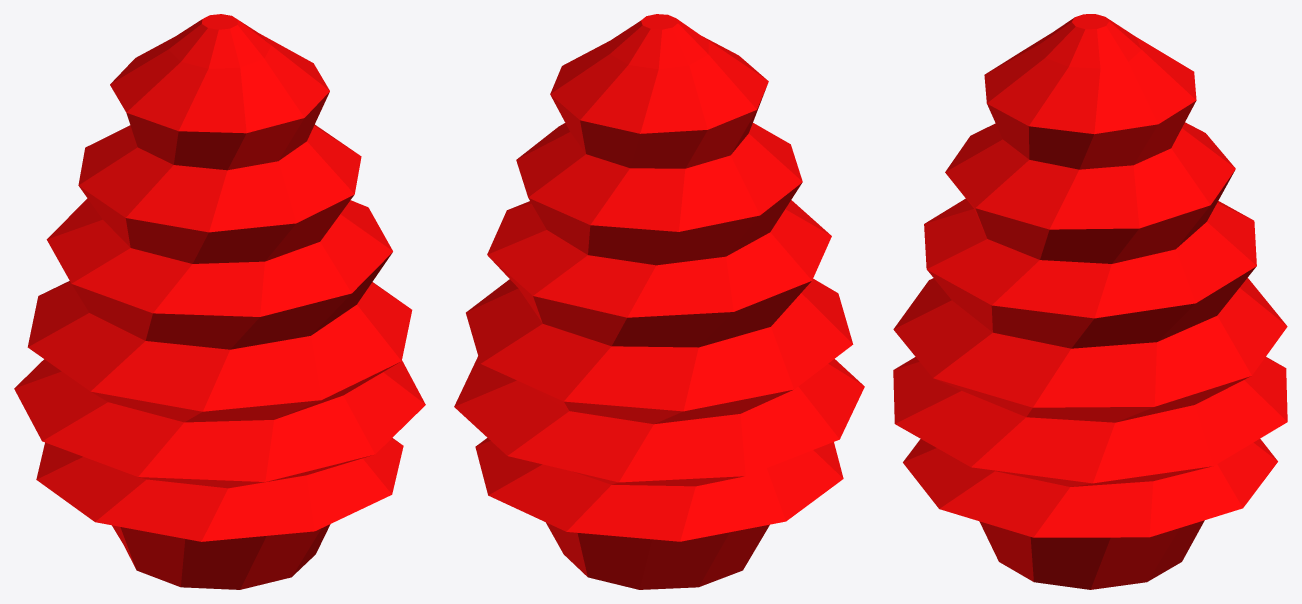
The model's file is PineCone.fbx.
3 views of the same model, side by side, from view 1: azimuth 30°, elevation 25°; view 2: azimuth 150°, elevation 25°; view 3: azimuth 270°, elevation 25° (orthographic).
Parts seen in each view (by area): view 1: PineCone; view 2: PineCone; view 3: PineCone.
Part boxes in pixels (left/top/right/bottom): PineCone: left=14, top=14, right=425, bottom=589; PineCone: left=454, top=14, right=864, bottom=589; PineCone: left=893, top=14, right=1287, bottom=589.
Size of the model in its own units: 0.176 by 0.248 by 0.168.
